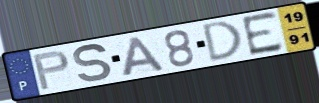8: (163, 29, 195, 68)
A: (121, 35, 167, 78)
D: (202, 19, 245, 64)
E: (239, 9, 286, 58)
P: (31, 49, 72, 92)
S: (71, 43, 114, 83)
